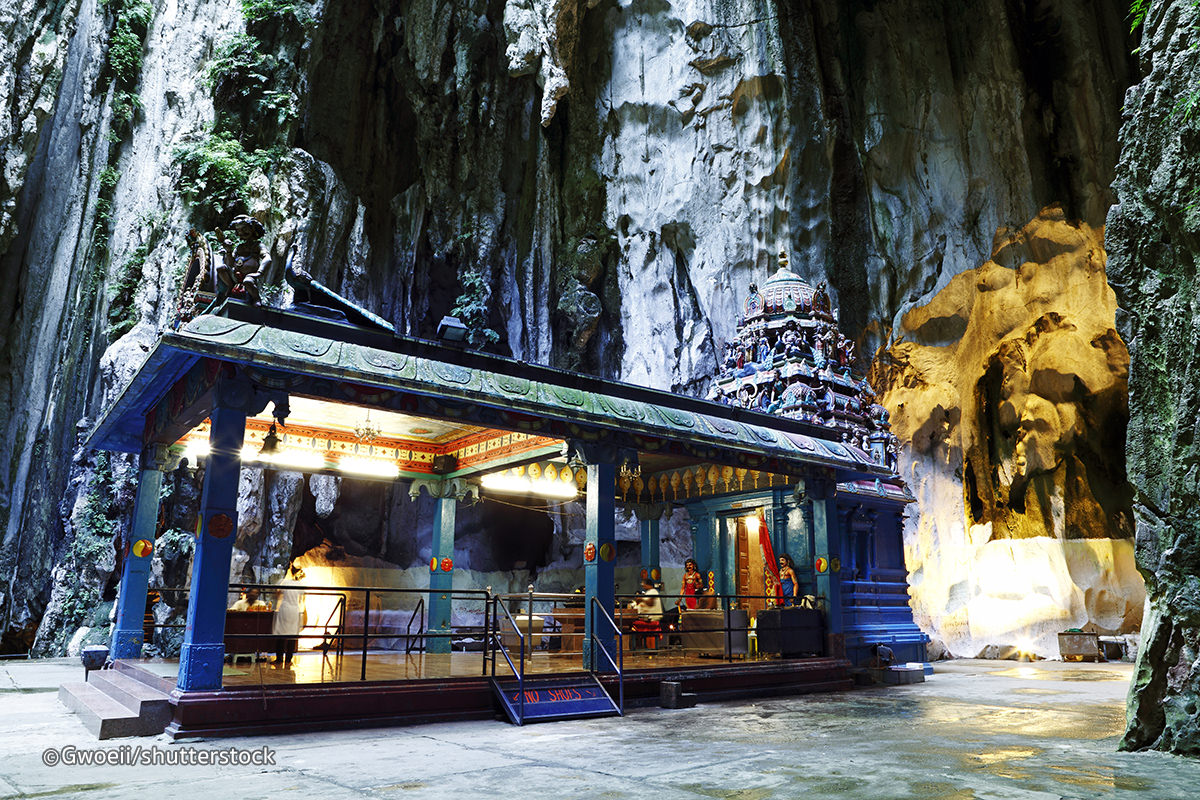Hindu Temple: (128, 252, 883, 658)
